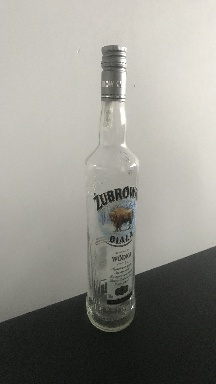butelka: (82, 40, 141, 334)
